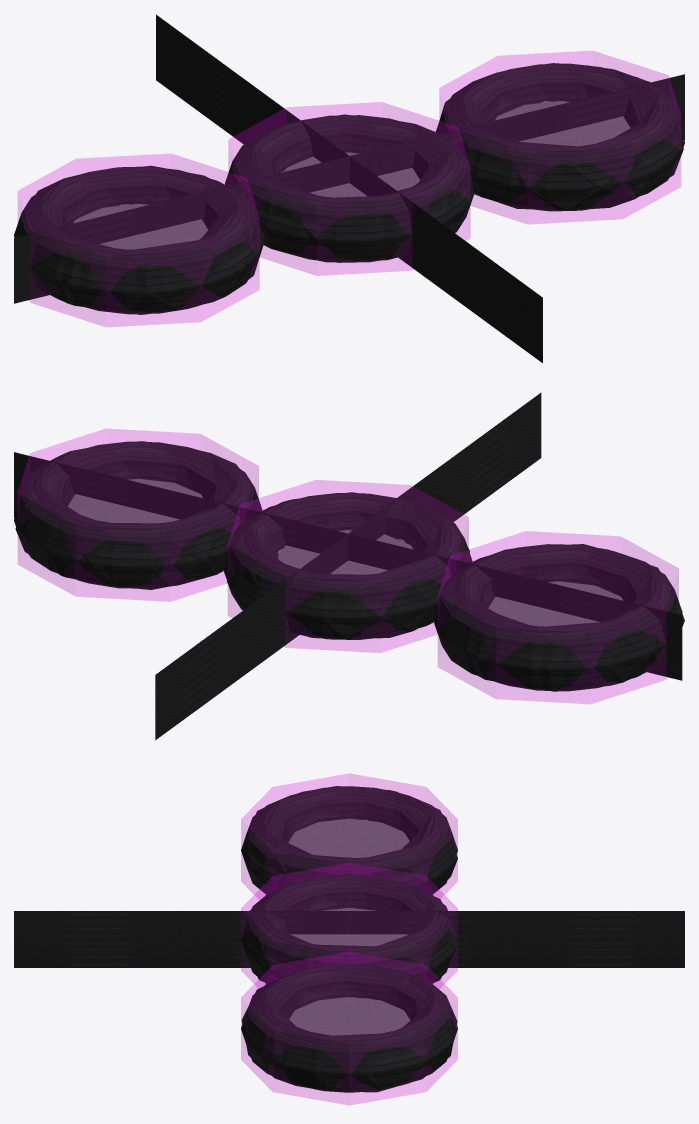
File: tire_row_3.dae
3 renders of one model, top to bottom at view 1: azimuth 30°, elevation 25°; view 2: azimuth 150°, elevation 25°; view 3: azimuth 270°, elevation 25°, orthographic. The views are drawn at different scales.
Parts seen in each view (by area): view 1: tire_row_3_a800, tire_row_3_a50, tire_row_3_a200, Colmesh_t0-1, Colmesh_t2-1, Colmesh_t1-1; view 2: tire_row_3_a800, tire_row_3_a50, tire_row_3_a200, Colmesh_t0-1, Colmesh_t2-1, Colmesh_t1-1; view 3: tire_row_3_a800, tire_row_3_a50, tire_row_3_a200, Colmesh_t2-1, Colmesh_t1-1, Colmesh_t0-1.
Boxes of the visible parts, x1,y1,x2,y2 form: tire_row_3_a800: [14, 63, 684, 314]; tire_row_3_a50: [14, 14, 684, 363]; tire_row_3_a200: [14, 63, 683, 314]; Colmesh_t0-1: [18, 153, 259, 326]; Colmesh_t2-1: [439, 51, 680, 224]; Colmesh_t1-1: [228, 102, 470, 275]; tire_row_3_a800: [14, 441, 682, 691]; tire_row_3_a50: [14, 392, 682, 740]; tire_row_3_a200: [15, 441, 684, 691]; Colmesh_t0-1: [438, 531, 678, 703]; Colmesh_t2-1: [18, 429, 258, 601]; Colmesh_t1-1: [228, 480, 468, 652]; tire_row_3_a800: [241, 786, 457, 1092]; tire_row_3_a50: [14, 911, 684, 967]; tire_row_3_a200: [241, 786, 457, 1092]; Colmesh_t2-1: [241, 952, 457, 1105]; Colmesh_t1-1: [241, 863, 457, 988]; Colmesh_t0-1: [241, 773, 457, 899].
Bounding box in the file's own units: 2.35 × 2.35 × 0.24.
3 materials, 2 textured.
